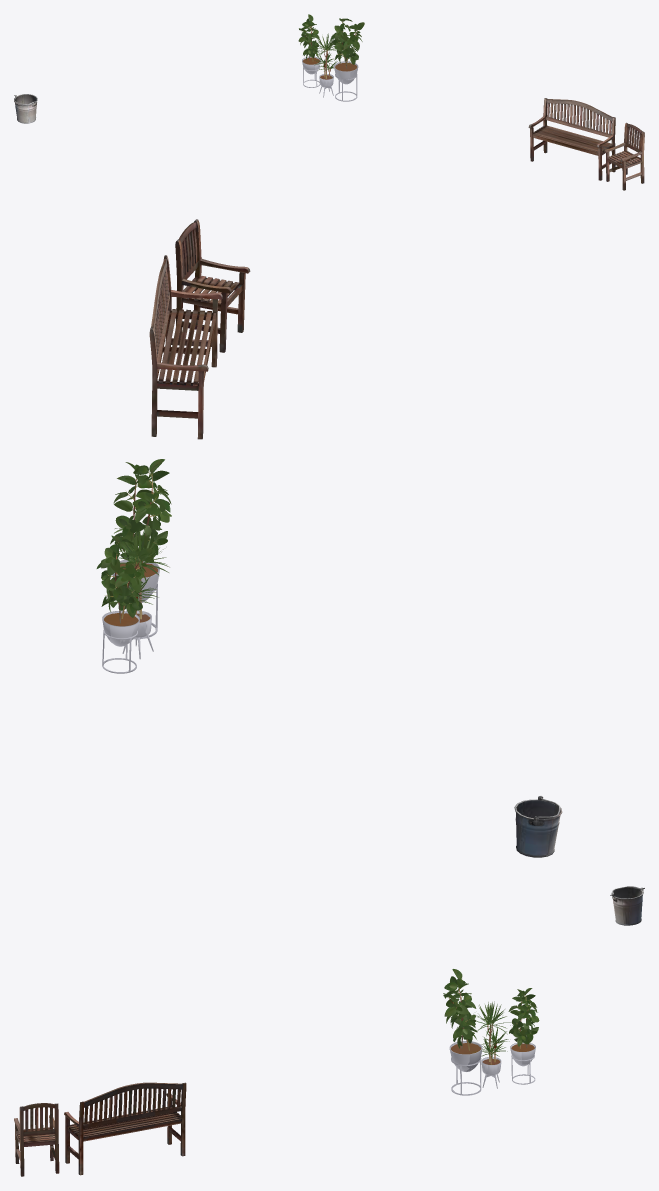
File: Ornamentos.glb
The picture shows the model from 3 angles, top to bottom: view 1: azimuth 30°, elevation 25°; view 2: azimuth 150°, elevation 25°; view 3: azimuth 270°, elevation 25°; orthographic projection. The views are drawn at different scales.
Visible parts, largest first — view 1: Banco01, Vaso01, Banco02, Vaso03, Vaso02, Balde; view 2: Banco01, Vaso01, Banco02, Vaso03, Balde, Vaso02; view 3: Banco01, Vaso01, Banco02, Vaso03, Vaso02, Balde.
Part boxes in pixels (bbox=[...]): Banco01: bbox=[528, 98, 615, 180]; Vaso01: bbox=[331, 18, 364, 101]; Banco02: bbox=[604, 122, 644, 190]; Vaso03: bbox=[298, 14, 320, 87]; Vaso02: bbox=[311, 33, 337, 97]; Balde: bbox=[14, 94, 37, 123]; Banco01: bbox=[149, 255, 222, 439]; Vaso01: bbox=[110, 459, 171, 639]; Banco02: bbox=[175, 219, 250, 352]; Vaso03: bbox=[96, 535, 152, 673]; Balde: bbox=[514, 796, 562, 857]; Vaso02: bbox=[115, 529, 169, 659]; Banco01: bbox=[64, 1082, 186, 1175]; Vaso01: bbox=[443, 969, 482, 1095]; Banco02: bbox=[14, 1103, 59, 1176]; Vaso03: bbox=[508, 988, 539, 1084]; Vaso02: bbox=[476, 1001, 511, 1088]; Balde: bbox=[610, 886, 644, 925].
Size of the model in its own units: 9.16 by 1.88 by 9.09.
Materials: 1 (1 with a texture image).
